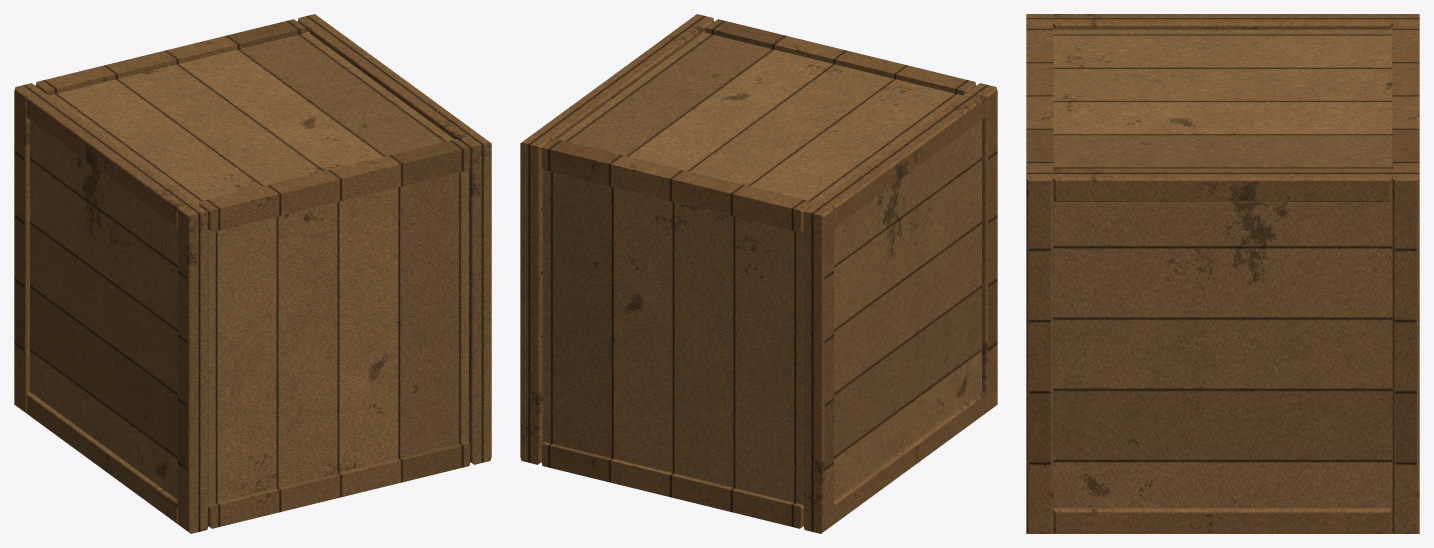
The model's file is crate.glb.
3 renders of one model, left to right at view 1: azimuth 30°, elevation 25°; view 2: azimuth 150°, elevation 25°; view 3: azimuth 270°, elevation 25°, orthographic. The views are drawn at different scales.
Visible parts, largest first — view 1: model; view 2: model; view 3: model.
Boxes of the visible parts, x1,y1,x2,y2 form: model: (14,14,491,533); model: (520,14,997,533); model: (1026,14,1419,533).
Size of the model in its own units: 1.3 by 1.3 by 1.3.
2 materials, 2 textured.
